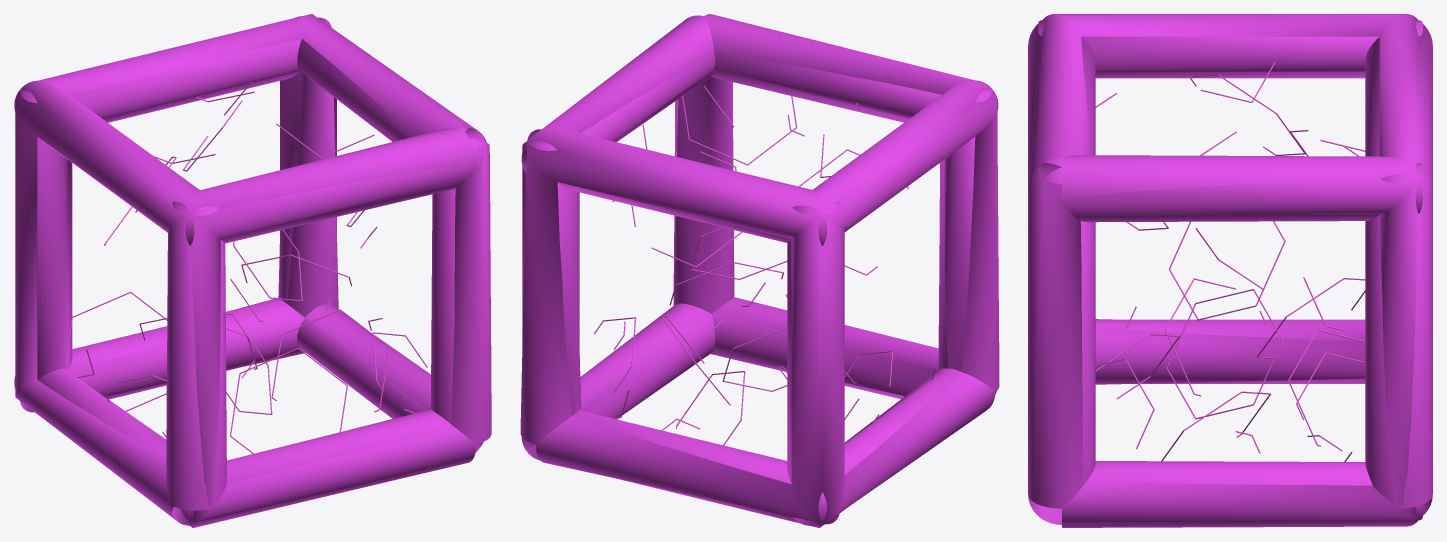
The model's file is dislocation.glb.
The picture shows the model from 3 angles, left to right: view 1: azimuth 30°, elevation 25°; view 2: azimuth 150°, elevation 25°; view 3: azimuth 270°, elevation 25°; orthographic projection. The views are drawn at different scales.
Visible parts, largest first — view 1: A, Shape_IndexedLineSet.001; view 2: A, Shape_IndexedLineSet.001; view 3: A, Shape_IndexedLineSet.001.
Boxes of the visible parts, left/top/right/bottom form: A: left=14, top=14, right=491, bottom=527; Shape_IndexedLineSet.001: left=64, top=81, right=427, bottom=453; A: left=520, top=14, right=999, bottom=527; Shape_IndexedLineSet.001: left=580, top=86, right=935, bottom=445; A: left=1028, top=14, right=1432, bottom=527; Shape_IndexedLineSet.001: left=1095, top=62, right=1365, bottom=462.
Size of the model in its own units: 12 by 12 by 12.
